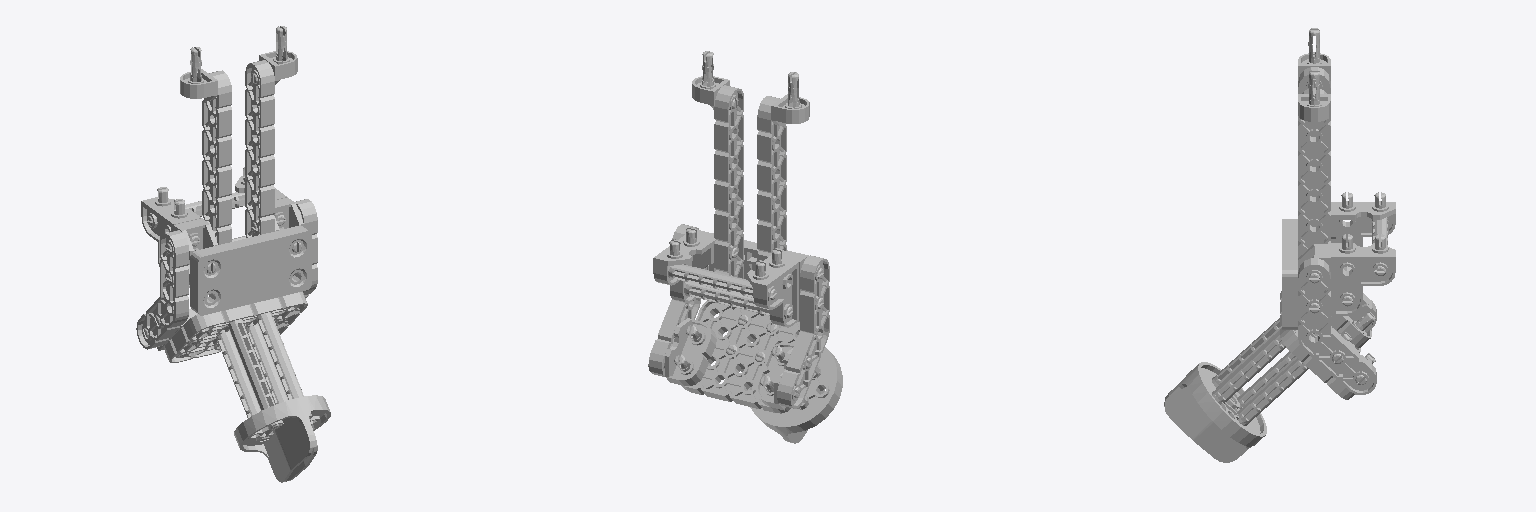
File: VIQRC-MixAndMatch-H2H-_-GameObjects_StartingPinSupport.obj
3 views of the same model, side by side, from view 1: azimuth 30°, elevation 25°; view 2: azimuth 150°, elevation 25°; view 3: azimuth 270°, elevation 25° (orthographic).
Visible parts, largest first — view 1: Body1:1, Body1:14, Body1, Body1:13, Body1:28, Body1:9, Body1:12, Body1:20, Body1:19, Body1:21, Body1:22, Body1:8 (+4 smaller); view 2: Body1:28, Body1:14, Body1:13, Body1:9, Body1, Body1:12, Body1:4, Body1:6, Body1:5, Body1:16, Body1:11, Body1:15 (+2 smaller); view 3: Body1, Body1:5, Body1:14, Body1:4, Body1:12, Body1:1, Body1:19, Body1:22, Body1:28, Body1:20, Body1:11, Body1:17 (+3 smaller).
Boxes of the visible parts, x1=… form: Body1:1: x1=190, y1=225, x2=311, y2=315; Body1:14: x1=245, y1=60, x2=274, y2=237; Body1: x1=234, y1=395, x2=330, y2=482; Body1:13: x1=202, y1=70, x2=231, y2=244; Body1:28: x1=164, y1=291, x2=307, y2=362; Body1:9: x1=136, y1=230, x2=188, y2=349; Body1:12: x1=141, y1=187, x2=200, y2=266; Body1:20: x1=228, y1=319, x2=281, y2=429; Body1:19: x1=256, y1=312, x2=309, y2=419; Body1:21: x1=216, y1=332, x2=269, y2=441; Body1:22: x1=247, y1=325, x2=287, y2=403; Body1:8: x1=166, y1=218, x2=217, y2=287; Body1:28: x1=681, y1=301, x2=799, y2=413; Body1:14: x1=714, y1=85, x2=743, y2=278; Body1:13: x1=757, y1=96, x2=786, y2=260; Body1:9: x1=777, y1=255, x2=829, y2=408; Body1: x1=748, y1=347, x2=842, y2=443; Body1:12: x1=747, y1=248, x2=798, y2=327; Body1:4: x1=653, y1=227, x2=713, y2=302; Body1:6: x1=664, y1=318, x2=716, y2=385; Body1:5: x1=648, y1=224, x2=700, y2=376; Body1:16: x1=669, y1=264, x2=776, y2=299; Body1:11: x1=756, y1=342, x2=811, y2=410; Body1:15: x1=686, y1=282, x2=792, y2=317; Body1: x1=1164, y1=362, x2=1266, y2=462; Body1:5: x1=1298, y1=258, x2=1376, y2=394; Body1:14: x1=1298, y1=88, x2=1330, y2=269; Body1:4: x1=1331, y1=234, x2=1395, y2=315; Body1:12: x1=1331, y1=192, x2=1395, y2=246; Body1:1: x1=1282, y1=219, x2=1297, y2=329; Body1:19: x1=1214, y1=332, x2=1285, y2=402; Body1:22: x1=1237, y1=358, x2=1308, y2=423; Body1:28: x1=1280, y1=291, x2=1360, y2=399; Body1:20: x1=1214, y1=318, x2=1280, y2=385; Body1:11: x1=1331, y1=303, x2=1371, y2=347; Body1:17: x1=1298, y1=94, x2=1330, y2=121.
Bounding box in the file's own units: 63.25 × 175 × 89.25.